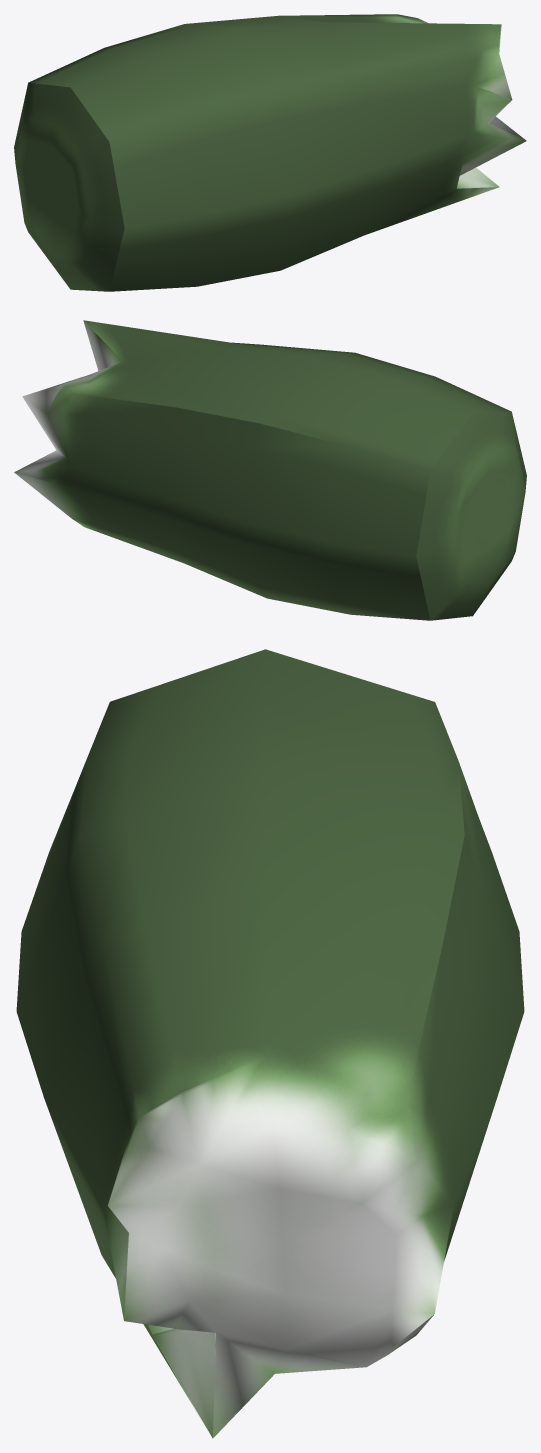
File: rippedArm_Green.fbx
3 renders of one model, top to bottom at view 1: azimuth 30°, elevation 25°; view 2: azimuth 150°, elevation 25°; view 3: azimuth 270°, elevation 25°, orthographic. The views are drawn at different scales.
Parts seen in each view (by area): view 1: pCube1; view 2: pCube1; view 3: pCube1.
Boxes of the visible parts, x1,y1,x2,y2 form: pCube1: (14,14,526,291); pCube1: (14,320,526,620); pCube1: (16,649,524,1438).
Bounding box in the file's own units: 1.18 × 0.6021 × 0.5848.
1 material, 1 textured.
